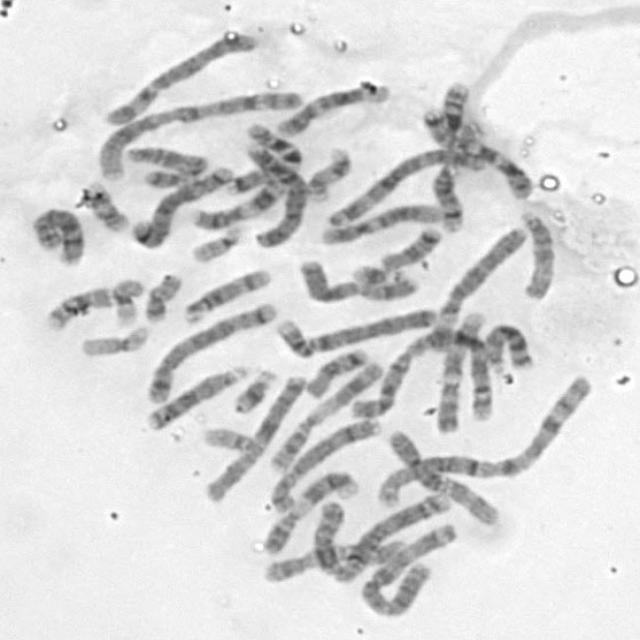A1: (374, 367, 598, 511), (94, 84, 306, 181)
A2: (344, 331, 498, 422), (309, 488, 454, 583)
A3: (320, 142, 485, 230), (355, 516, 460, 620)
B4: (270, 302, 439, 360), (237, 133, 308, 250)
B5: (140, 295, 282, 405), (128, 160, 236, 250)
C10: (383, 427, 502, 526), (259, 535, 406, 585)
C11: (266, 358, 385, 473), (188, 174, 288, 230)
C12: (270, 76, 390, 138), (316, 198, 445, 245)
C6: (100, 27, 260, 127), (428, 223, 531, 359)
C7: (415, 101, 534, 202), (220, 121, 306, 196)
C8: (264, 412, 385, 516), (27, 200, 88, 268)
C9: (260, 466, 362, 556), (432, 306, 488, 436)
D13: (141, 360, 252, 432), (480, 318, 536, 376)
D14: (178, 262, 275, 326), (428, 157, 468, 234)
D15: (514, 205, 560, 302), (123, 140, 211, 176)
E16: (41, 281, 115, 332), (439, 81, 491, 149)
E17: (303, 142, 354, 202), (79, 176, 131, 234)
E18: (301, 343, 371, 399), (376, 221, 444, 272)
F19: (75, 319, 153, 359), (108, 273, 146, 327)
F20: (139, 266, 185, 324), (140, 163, 205, 190)
G21: (229, 364, 279, 416), (346, 258, 393, 288)
G22: (186, 219, 248, 264), (198, 422, 257, 453)
X: (199, 368, 310, 504), (292, 253, 418, 304)
